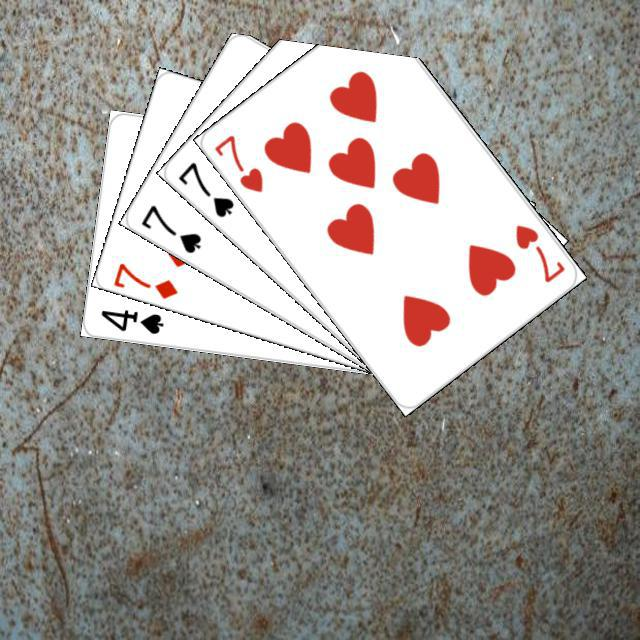4s: (96, 304, 165, 336)
7d: (109, 258, 180, 301)
7h: (510, 219, 567, 285), (209, 129, 265, 195)
7s: (173, 157, 236, 220), (136, 200, 204, 256)
